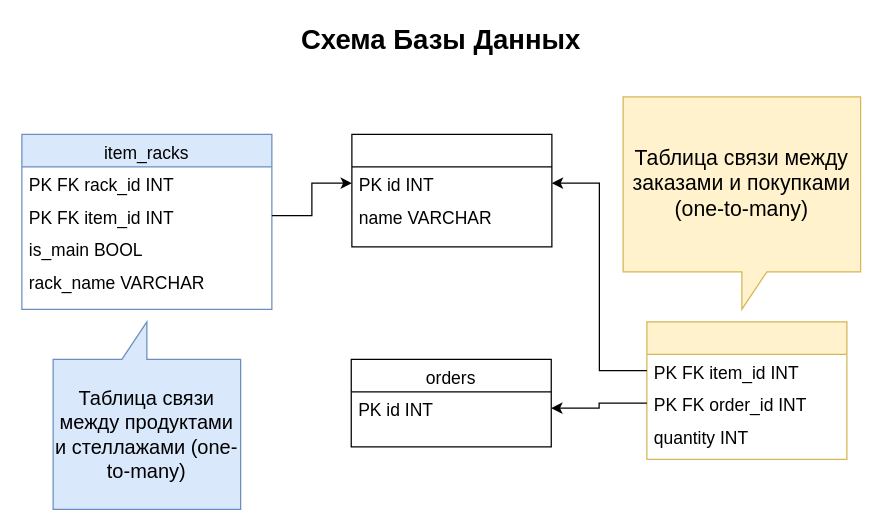
This 883x531 diagram has some shape labels left out. The shapes that lost their labels are listed below. From the top down, each one's box as (x1, y1, x2, y2) in pixels, then its label:
(351, 133, 552, 247): items
(646, 321, 847, 459): order_items
